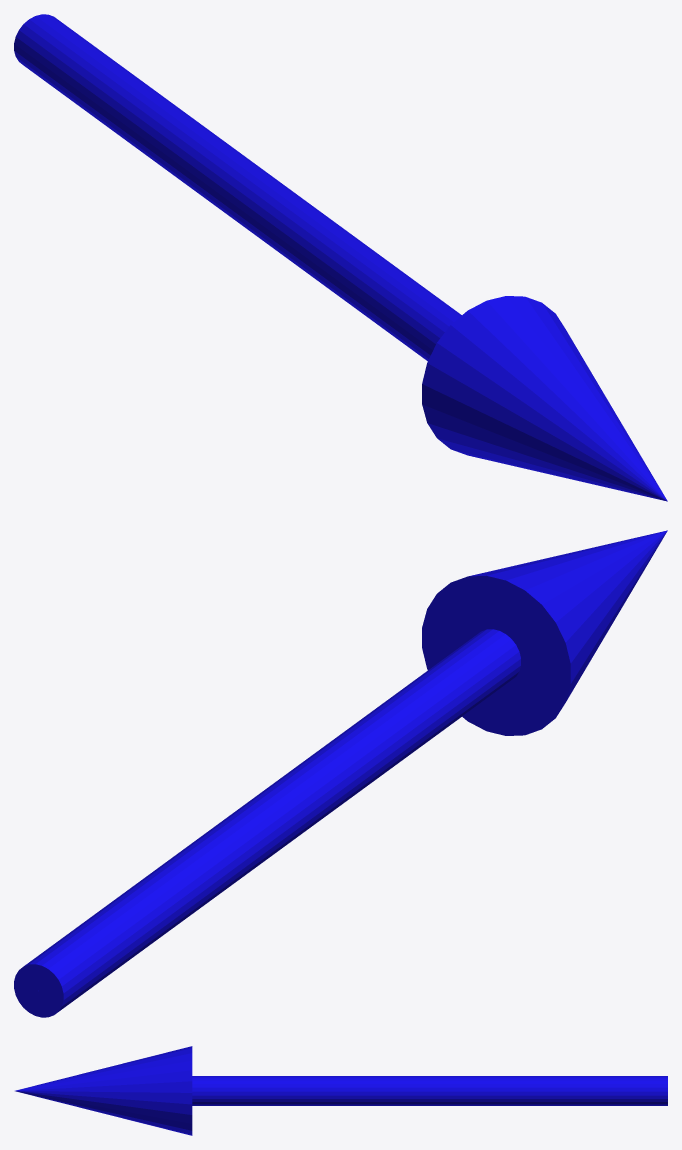
Rendered from arrow.obj.
The picture shows the model from 3 angles, top to bottom: view 1: azimuth 30°, elevation 25°; view 2: azimuth 150°, elevation 25°; view 3: azimuth 270°, elevation 25°; orthographic projection. The views are drawn at different scales.
Visible parts, largest first — view 1: tube, cone; view 2: tube, cone; view 3: tube, cone.
Part boxes in pixels (x1,y1,x2,y2): tube: (14,14,461,361); cone: (422,296,667,501); tube: (14,629,520,1017); cone: (422,530,667,735); tube: (192,1076,667,1105); cone: (15,1046,192,1135).
Size of the model in its own units: 0.1875 by 0.1875 by 1.38.
1 material, 1 textured.
